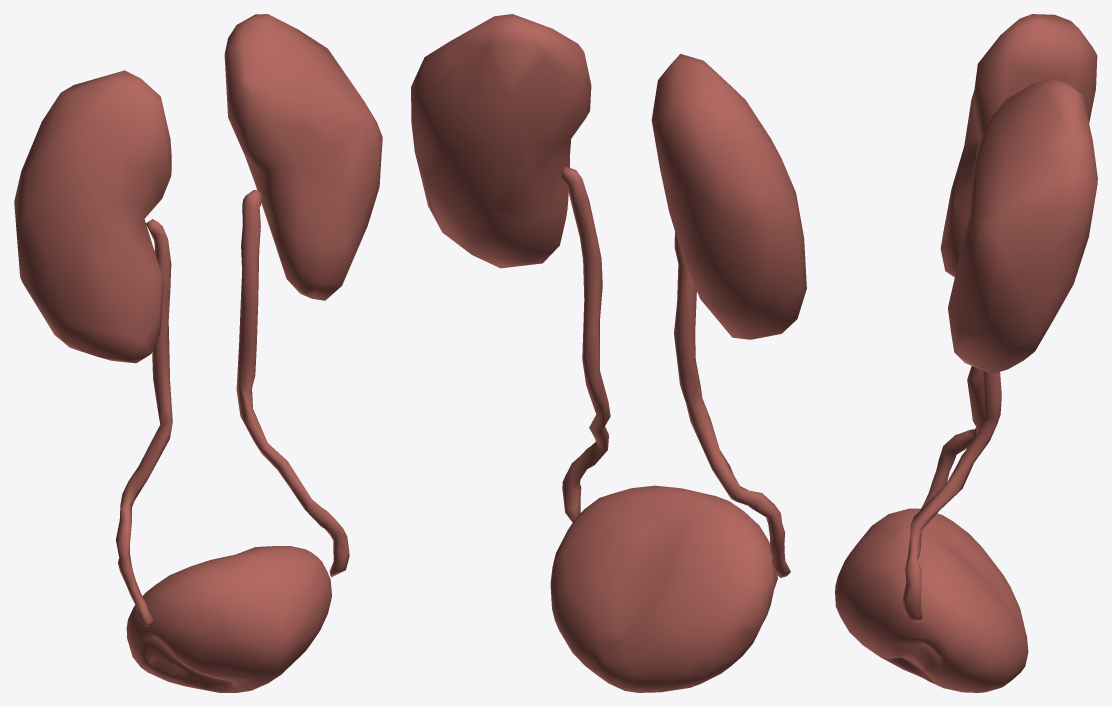
File: pediatric_infant_male.urinary.LOD1.glb
The picture shows the model from 3 angles, left to right: view 1: azimuth 30°, elevation 25°; view 2: azimuth 150°, elevation 25°; view 3: azimuth 270°, elevation 25°; orthographic projection. The views are drawn at different scales.
Visible parts, largest first — view 1: PEDIATRIC.INFANT.MALE.URINARY.KIDNEY_CORTEX.R, PEDIATRIC.INFANT.MALE.URINARY.KIDNEY_CORTEX.L, PEDIATRIC.INFANT.MALE.URINARY.URINARY_BLADDER_WALL, PEDIATRIC.INFANT.MALE.URINARY.URETER.L, PEDIATRIC.INFANT.MALE.URINARY.URETER.R; view 2: PEDIATRIC.INFANT.MALE.URINARY.URINARY_BLADDER_WALL, PEDIATRIC.INFANT.MALE.URINARY.KIDNEY_CORTEX.L, PEDIATRIC.INFANT.MALE.URINARY.KIDNEY_CORTEX.R, PEDIATRIC.INFANT.MALE.URINARY.URETER.L, PEDIATRIC.INFANT.MALE.URINARY.URETER.R; view 3: PEDIATRIC.INFANT.MALE.URINARY.KIDNEY_CORTEX.L, PEDIATRIC.INFANT.MALE.URINARY.URINARY_BLADDER_WALL, PEDIATRIC.INFANT.MALE.URINARY.KIDNEY_CORTEX.R, PEDIATRIC.INFANT.MALE.URINARY.URETER.L, PEDIATRIC.INFANT.MALE.URINARY.URETER.R.
Boxes of the visible parts, left/top/right/bottom form: PEDIATRIC.INFANT.MALE.URINARY.KIDNEY_CORTEX.R: left=14, top=70, right=171, bottom=363; PEDIATRIC.INFANT.MALE.URINARY.KIDNEY_CORTEX.L: left=224, top=14, right=382, bottom=300; PEDIATRIC.INFANT.MALE.URINARY.URINARY_BLADDER_WALL: left=126, top=546, right=331, bottom=692; PEDIATRIC.INFANT.MALE.URINARY.URETER.L: left=236, top=190, right=349, bottom=577; PEDIATRIC.INFANT.MALE.URINARY.URETER.R: left=116, top=219, right=172, bottom=626; PEDIATRIC.INFANT.MALE.URINARY.URINARY_BLADDER_WALL: left=550, top=485, right=777, bottom=692; PEDIATRIC.INFANT.MALE.URINARY.KIDNEY_CORTEX.L: left=411, top=14, right=591, bottom=268; PEDIATRIC.INFANT.MALE.URINARY.KIDNEY_CORTEX.R: left=651, top=54, right=806, bottom=339; PEDIATRIC.INFANT.MALE.URINARY.URETER.L: left=561, top=166, right=610, bottom=522; PEDIATRIC.INFANT.MALE.URINARY.URETER.R: left=674, top=232, right=790, bottom=577; PEDIATRIC.INFANT.MALE.URINARY.KIDNEY_CORTEX.L: left=948, top=79, right=1097, bottom=374; PEDIATRIC.INFANT.MALE.URINARY.URINARY_BLADDER_WALL: left=835, top=508, right=1028, bottom=692; PEDIATRIC.INFANT.MALE.URINARY.KIDNEY_CORTEX.R: left=940, top=14, right=1097, bottom=277; PEDIATRIC.INFANT.MALE.URINARY.URETER.L: left=903, top=370, right=1001, bottom=622; PEDIATRIC.INFANT.MALE.URINARY.URETER.R: left=920, top=366, right=984, bottom=508.
Bounding box in the file's own units: 0.0977 × 0.1649 × 0.0613.
